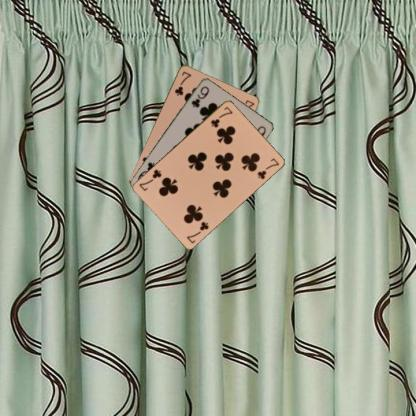7c: (208, 103, 234, 129), (184, 218, 210, 244), (172, 68, 192, 97)
9c: (188, 83, 210, 109)
